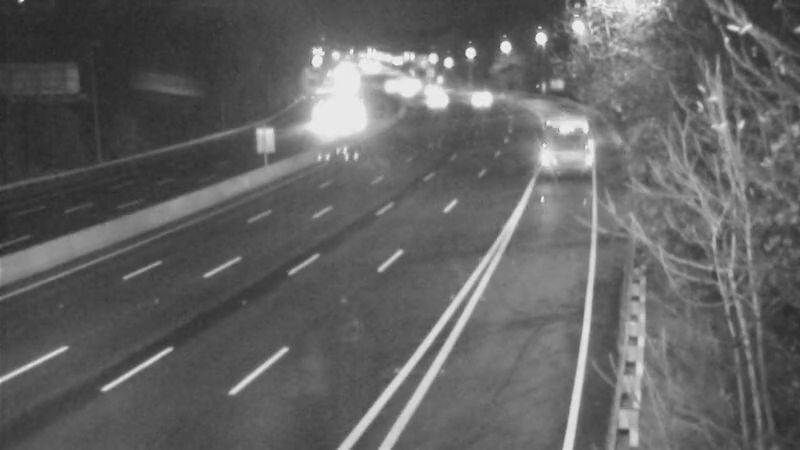vehicle: (363, 60, 413, 110), (406, 65, 456, 115), (460, 76, 510, 126), (409, 74, 459, 124), (533, 111, 583, 161)
